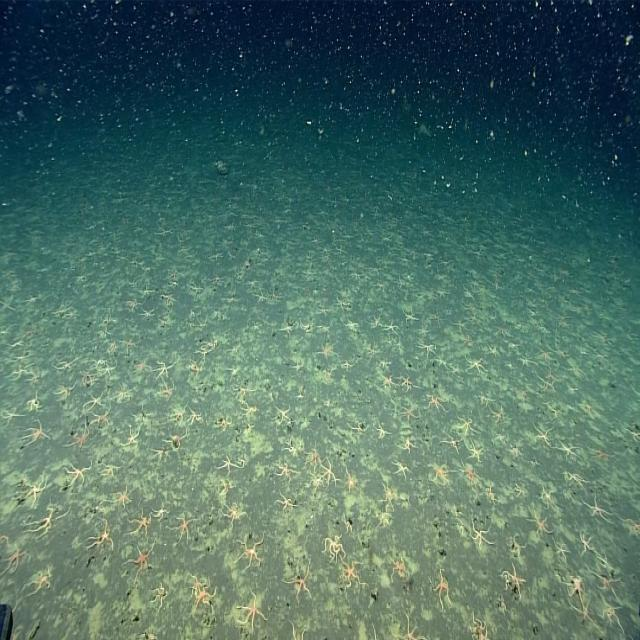brittle-stars: (235, 530, 272, 584), (87, 517, 120, 559), (32, 504, 61, 550), (234, 594, 265, 636), (600, 594, 628, 640), (132, 541, 158, 588), (526, 418, 554, 459), (284, 568, 314, 606), (538, 368, 564, 409), (469, 517, 497, 555), (569, 586, 592, 632), (186, 575, 213, 614), (575, 522, 601, 562), (20, 422, 52, 453), (0, 546, 23, 588), (64, 455, 94, 487), (120, 418, 142, 460), (454, 408, 481, 442), (528, 506, 553, 542), (503, 564, 525, 604), (174, 511, 198, 547), (22, 471, 48, 504), (340, 552, 360, 594), (27, 388, 49, 426), (431, 572, 453, 610), (110, 480, 134, 514), (322, 531, 344, 568), (590, 492, 612, 529), (556, 439, 582, 470), (52, 379, 76, 412), (195, 328, 222, 357), (127, 510, 153, 540), (10, 361, 41, 386), (154, 496, 174, 533), (554, 537, 576, 570), (539, 484, 561, 517), (67, 427, 96, 452), (220, 497, 247, 523), (562, 571, 588, 598), (49, 350, 78, 374), (428, 460, 452, 489), (386, 558, 409, 588), (230, 371, 252, 402), (441, 429, 462, 461), (594, 571, 618, 599), (89, 408, 111, 438), (388, 457, 414, 482), (34, 561, 52, 597), (378, 474, 397, 508), (272, 454, 294, 483), (464, 432, 482, 466), (276, 486, 296, 516), (418, 334, 438, 364), (349, 419, 374, 443), (396, 613, 418, 640), (150, 580, 168, 613), (509, 439, 529, 468), (281, 315, 298, 349), (511, 530, 529, 562), (394, 432, 418, 456), (100, 458, 122, 484), (396, 370, 418, 396), (465, 354, 484, 383), (468, 618, 493, 640), (134, 356, 155, 382), (489, 401, 510, 427), (4, 403, 21, 435), (424, 390, 444, 417), (381, 372, 402, 397), (89, 388, 108, 415), (375, 423, 394, 450), (169, 429, 186, 459), (304, 440, 325, 464), (401, 397, 419, 425), (157, 378, 179, 400), (217, 448, 241, 468), (539, 342, 555, 372), (274, 399, 291, 427), (100, 350, 114, 384), (400, 303, 419, 328), (156, 220, 174, 246), (78, 367, 94, 396), (184, 357, 206, 378), (382, 315, 401, 339), (152, 356, 174, 376), (568, 470, 590, 490), (309, 466, 325, 492), (106, 336, 122, 362), (368, 306, 382, 334), (324, 458, 335, 492), (473, 385, 490, 407), (140, 306, 156, 329), (342, 358, 358, 381), (126, 255, 149, 271), (360, 338, 377, 359), (240, 394, 256, 416), (188, 406, 202, 431), (345, 467, 359, 492), (217, 411, 234, 431), (486, 485, 499, 511), (339, 292, 352, 318), (343, 319, 361, 337), (3, 292, 17, 315), (218, 476, 234, 496), (462, 466, 477, 487), (126, 330, 137, 358), (319, 344, 336, 362), (148, 443, 164, 462), (207, 246, 222, 265), (207, 274, 227, 288), (514, 479, 524, 506), (129, 296, 141, 318), (516, 351, 530, 369), (452, 317, 468, 332), (224, 360, 238, 377), (191, 280, 204, 298), (489, 342, 502, 360), (164, 290, 175, 311), (306, 314, 317, 334), (288, 364, 304, 377), (242, 419, 256, 433), (321, 301, 330, 320), (141, 285, 155, 297), (257, 285, 263, 307), (168, 269, 180, 280), (324, 322, 332, 335)
